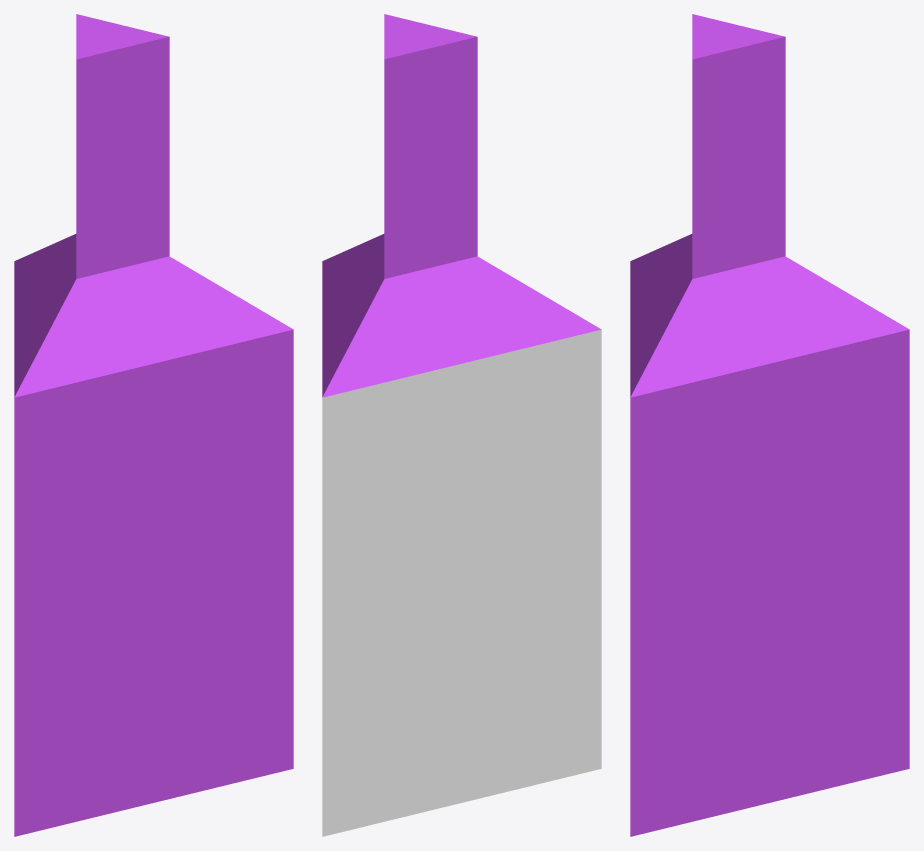
The model's file is bottle_marked.gltf.
3 renders of one model, left to right at view 1: azimuth 30°, elevation 25°; view 2: azimuth 150°, elevation 25°; view 3: azimuth 270°, elevation 25°, orthographic.
Visible parts, largest first — view 1: bottle; view 2: bottle; view 3: bottle.
Part boxes in pixels (x1,y1,x2,y2): bottle: [14, 14, 293, 836]; bottle: [322, 14, 601, 836]; bottle: [630, 14, 909, 836].
Bounding box in the file's own units: 0.2078 × 0.52 × 0.18.
